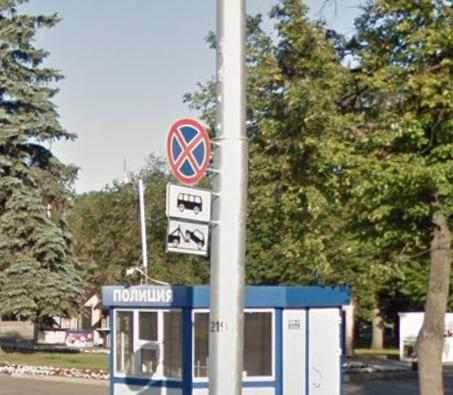No Parking: (166, 117, 213, 186)
